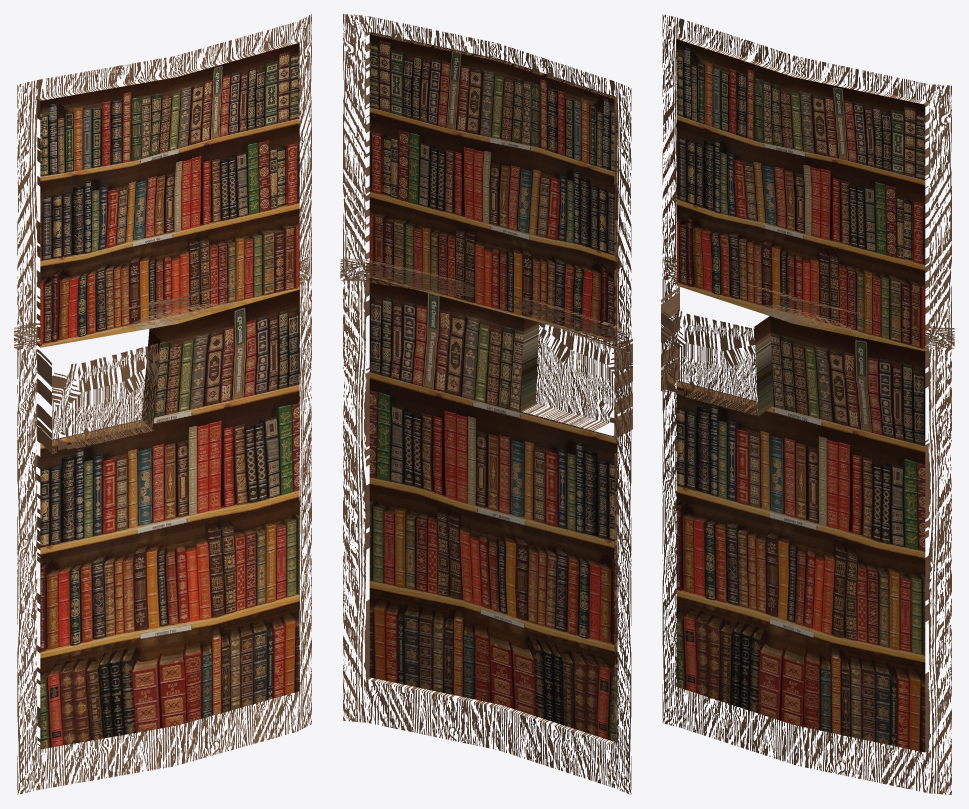
The model's file is parete5.fbx.
The picture shows the model from 3 angles, left to right: view 1: azimuth 30°, elevation 25°; view 2: azimuth 150°, elevation 25°; view 3: azimuth 330°, elevation 25°; orthographic projection.
Parts seen in each view (by area): view 1: Circle.004; view 2: Circle.004; view 3: Circle.004.
Boxes of the visible parts, <box> form: Circle.004: <box>14,14,311,794</box>; Circle.004: <box>340,14,632,794</box>; Circle.004: <box>661,14,954,794</box>.
Size of the model in its own units: 536 by 1246 by 91.44.
